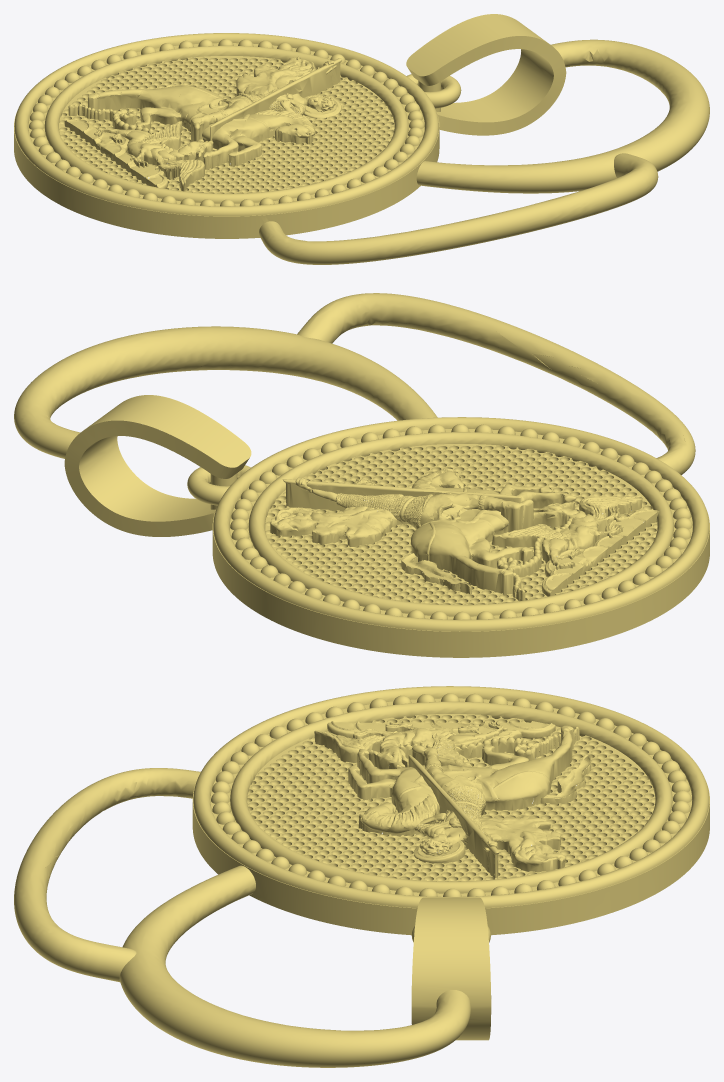
The model's file is shovalye.glb.
3 views of the same model, one above another, from view 1: azimuth 30°, elevation 25°; view 2: azimuth 150°, elevation 25°; view 3: azimuth 270°, elevation 25° (orthographic). The views are drawn at different scales.
Visible parts, largest first — view 1: Renderer Node; view 2: Renderer Node; view 3: Renderer Node.
Part boxes in pixels (x1,y1,x2,y2): Renderer Node: (14,14,709,264); Renderer Node: (14,293,709,657); Renderer Node: (14,686,709,1067).
Size of the model in its own units: 38.56 by 5.94 by 32.15.
